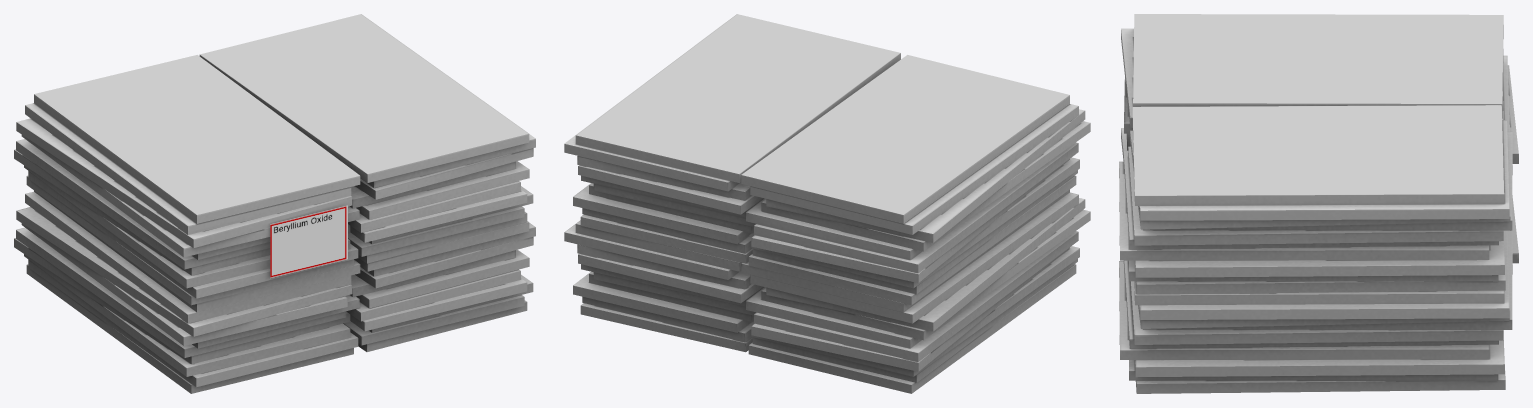
File: berylliumOxide_L.fbx
The picture shows the model from 3 angles, left to right: view 1: azimuth 30°, elevation 25°; view 2: azimuth 150°, elevation 25°; view 3: azimuth 270°, elevation 25°; orthographic projection. The views are drawn at different scales.
Parts seen in each view (by area): view 1: berylliumOxide_L; view 2: berylliumOxide_L; view 3: berylliumOxide_L.
Part boxes in pixels (<box>): berylliumOxide_L: <box>14,14,535,393</box>; berylliumOxide_L: <box>564,14,1090,393</box>; berylliumOxide_L: <box>1119,14,1518,393</box>.
Bounding box in the file's own units: 0.6676 × 0.3109 × 0.5669.
1 material, 1 textured.
